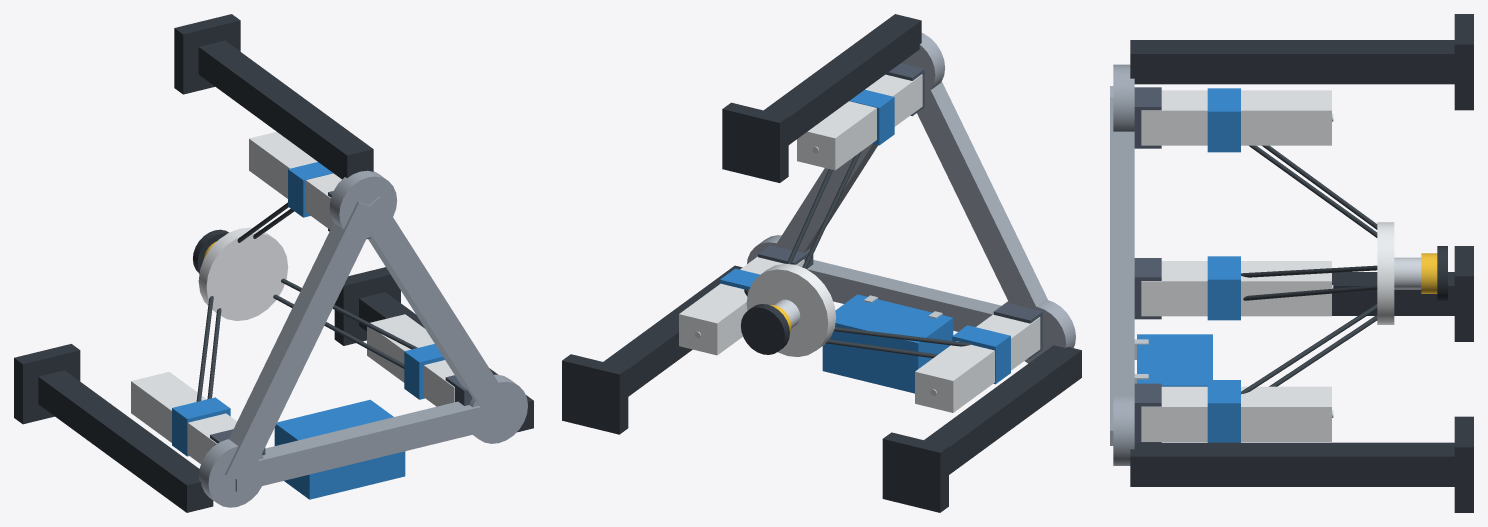
Rendered from robot.glb.
3 renders of one model, left to right at view 1: azimuth 30°, elevation 25°; view 2: azimuth 150°, elevation 25°; view 3: azimuth 270°, elevation 25°, orthographic. The views are drawn at different scales.
Visible parts, largest first — view 1: RS_base, RS_platform, RS_controller, RS_actuator-b, RS_actuator-a, RS_actuator-c, RS_carriage-b, RS_carriage-c, RS_carriage-a, RS_tool; view 2: RS_base, RS_controller, RS_actuator-b, RS_actuator-a, RS_platform, RS_actuator-c, RS_tool, RS_carriage-b, RS_carriage-a, RS_motor-b, RS_link-b-left, RS_motor-c (+1 smaller); view 3: RS_base, RS_actuator-a, RS_actuator-c, RS_actuator-b, RS_controller, RS_carriage-a, RS_carriage-b, RS_tool, RS_carriage-c, RS_platform, RS_motor-a, RS_motor-b (+7 smaller).
Boxes of the visible parts, box(x1,y1,x2,y2) form: RS_base: box(14, 14, 533, 512); RS_platform: box(198, 227, 288, 320); RS_controller: box(274, 399, 405, 499); RS_actuator-b: box(131, 372, 236, 463); RS_actuator-a: box(249, 131, 341, 229); RS_actuator-c: box(367, 314, 454, 406); RS_carriage-b: box(172, 397, 230, 456); RS_carriage-c: box(404, 344, 444, 399); RS_carriage-a: box(288, 162, 332, 217); RS_tool: box(193, 229, 228, 273); RS_base: box(562, 14, 1081, 512); RS_controller: box(822, 294, 953, 393); RS_actuator-b: box(915, 314, 1040, 412); RS_actuator-a: box(797, 74, 922, 170); RS_platform: box(746, 263, 836, 356); RS_actuator-c: box(679, 256, 804, 355); RS_tool: box(741, 299, 800, 354); RS_carriage-b: box(952, 325, 1010, 384); RS_carriage-a: box(849, 90, 894, 145); RS_motor-b: box(993, 301, 1042, 358); RS_link-b-left: box(834, 327, 970, 346); RS_motor-c: box(758, 245, 813, 268); RS_base: box(1110, 14, 1473, 512); RS_actuator-a: box(1141, 90, 1333, 145); RS_actuator-c: box(1141, 386, 1333, 441); RS_actuator-b: box(1141, 261, 1333, 316); RS_controller: box(1134, 334, 1212, 386); RS_carriage-a: box(1207, 88, 1240, 152); RS_carriage-b: box(1207, 256, 1240, 320); RS_tool: box(1394, 246, 1447, 301); RS_carriage-c: box(1207, 380, 1240, 442); RS_platform: box(1377, 222, 1394, 324); RS_motor-a: box(1134, 87, 1161, 148); RS_motor-b: box(1134, 258, 1161, 319).
Size of the model in its own units: 8.88 by 7.99 by 6.78.
